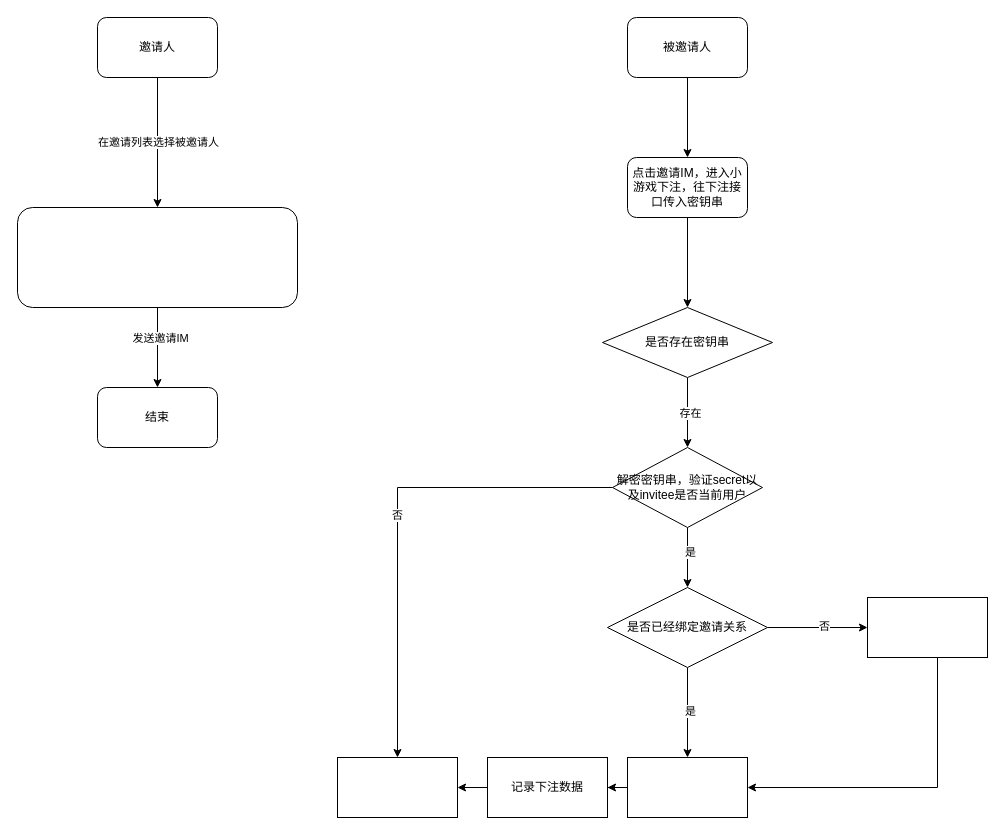
The diagram is 1005 pixels wide and 835 high, and some of its shapes have lost their labels. Each missing label, with the box of its shape:
des(${secret}_${inviter}_${invitee})组成密钥串，放在邀请IM链接中: (16, 206, 298, 308)
把当前邀请人以及被邀请人绑定起来: (866, 596, 988, 658)
无邀请逻辑，正常下注: (336, 756, 458, 818)
查出邀请人uid: (626, 756, 748, 818)
